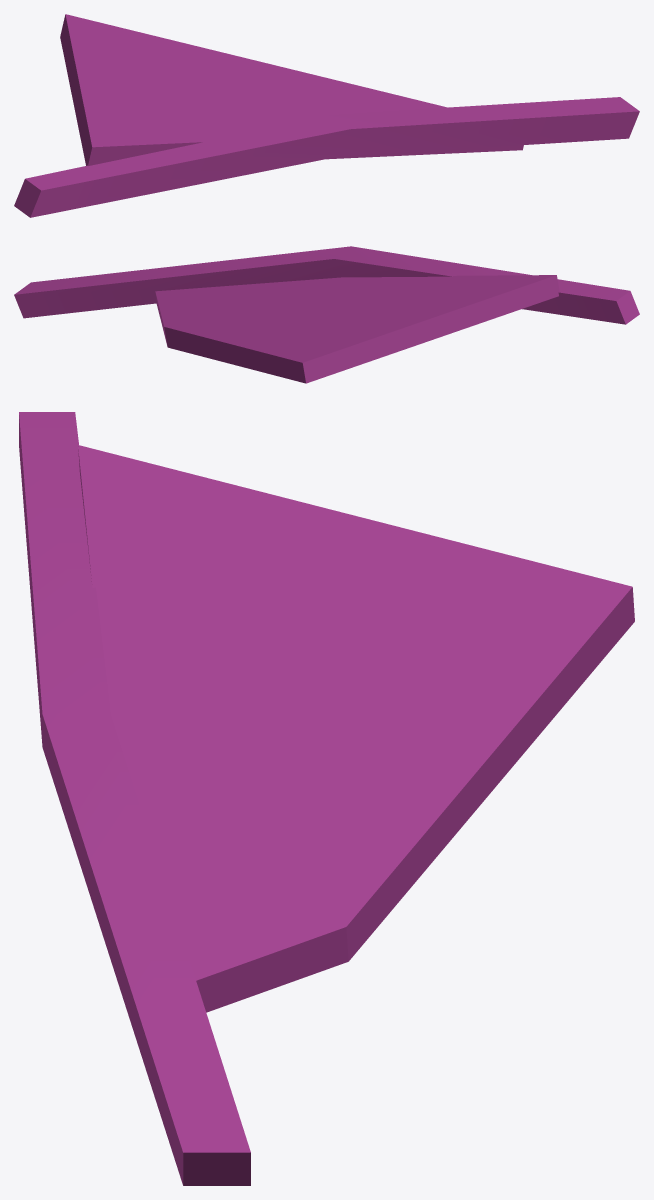
The model's file is SM_Veh_War_Balloon_01_Oar_L_Collision.fbx.
3 renders of one model, top to bottom at view 1: azimuth 30°, elevation 25°; view 2: azimuth 150°, elevation 25°; view 3: azimuth 270°, elevation 25°, orthographic. The views are drawn at different scales.
Parts seen in each view (by area): view 1: SM_Veh_War_Balloon_01_Oar_L_Collision; view 2: SM_Veh_War_Balloon_01_Oar_L_Collision; view 3: SM_Veh_War_Balloon_01_Oar_L_Collision.
Part boxes in pixels (box(x1,y1,x2,y2)): SM_Veh_War_Balloon_01_Oar_L_Collision: box(14, 14, 639, 217); SM_Veh_War_Balloon_01_Oar_L_Collision: box(14, 246, 639, 383); SM_Veh_War_Balloon_01_Oar_L_Collision: box(19, 412, 634, 1185).
Bounding box in the file's own units: 440 × 97.25 × 207.
